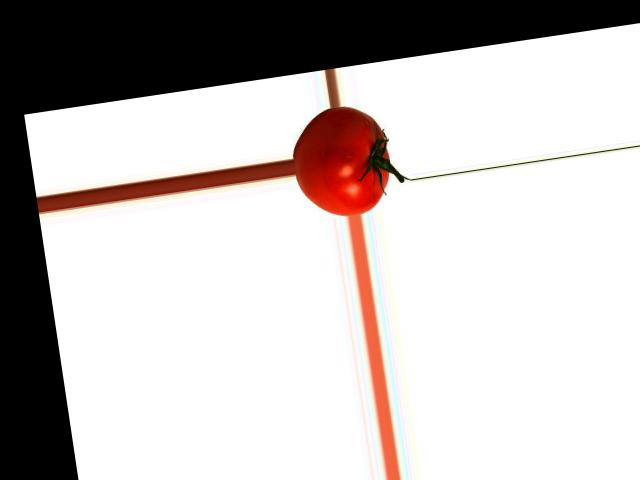tomato: (287, 99, 397, 222)
